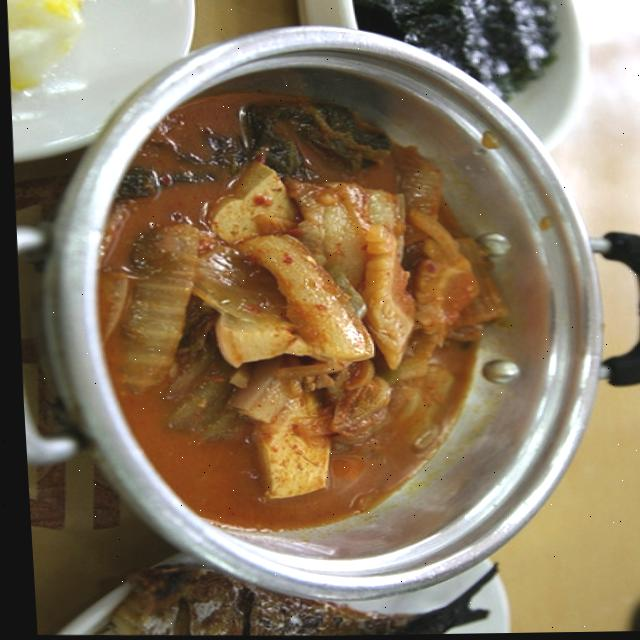汤锅炖物: (38, 8, 616, 614)
